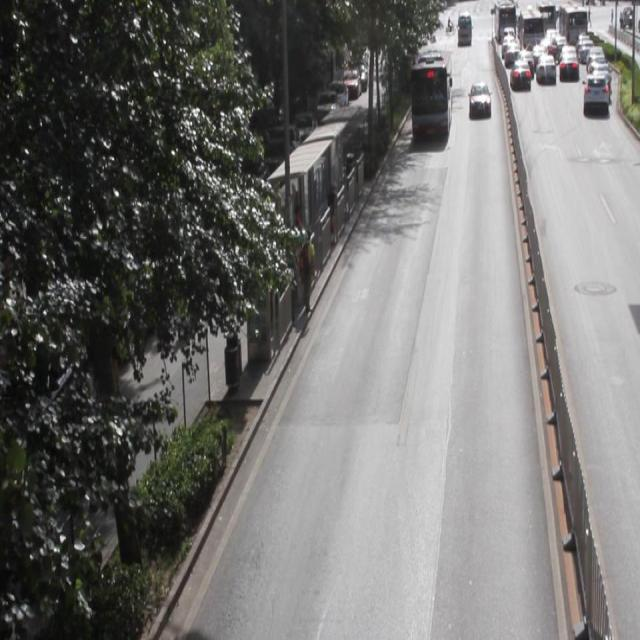van: (411, 51, 451, 141)
